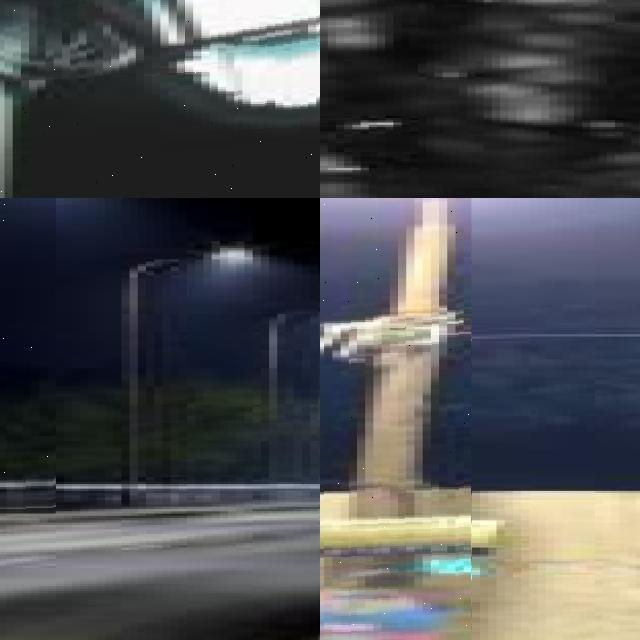street light: (320, 198, 471, 640), (0, 0, 320, 198), (113, 248, 257, 502), (0, 198, 55, 515), (261, 300, 320, 502)
